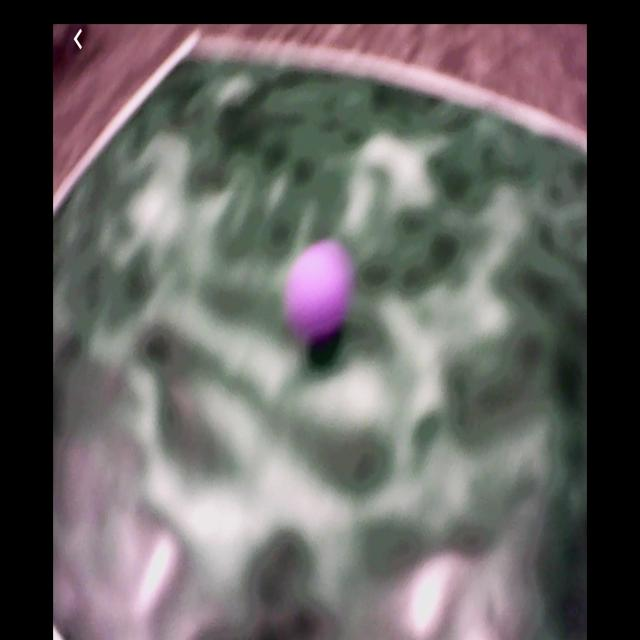ball: (283, 238, 355, 350)
